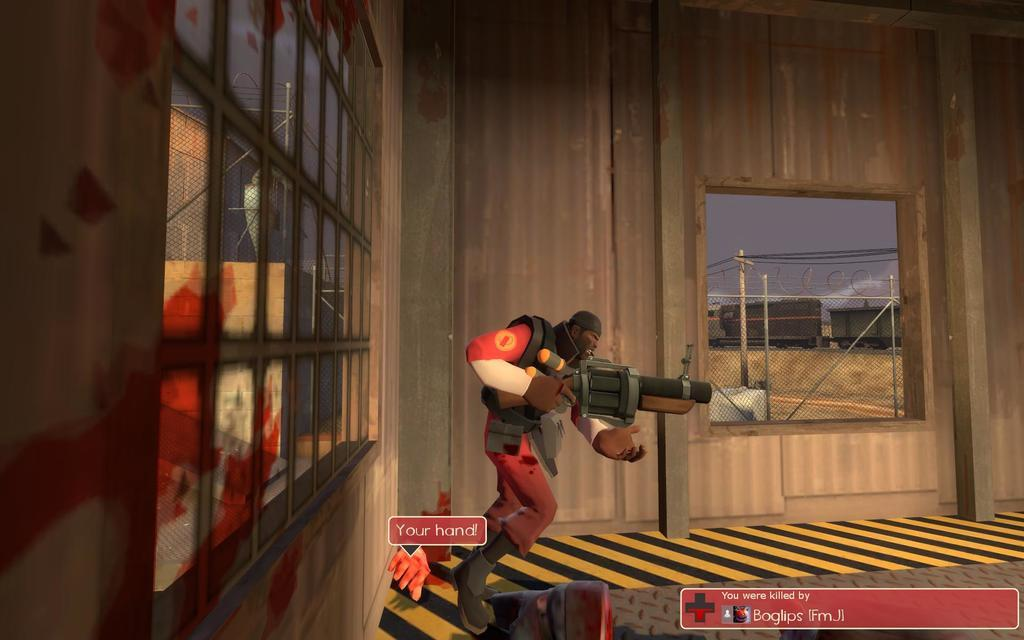Rifle: (494, 342, 713, 428)
